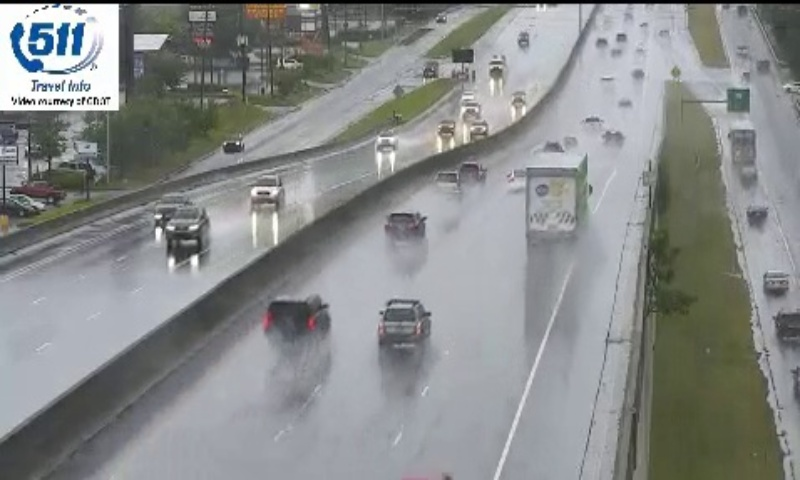car: (264, 295, 328, 348), (376, 302, 431, 346), (384, 211, 426, 243), (431, 169, 460, 198), (456, 161, 485, 186), (507, 169, 527, 190)
small-truck: (525, 156, 589, 245)
